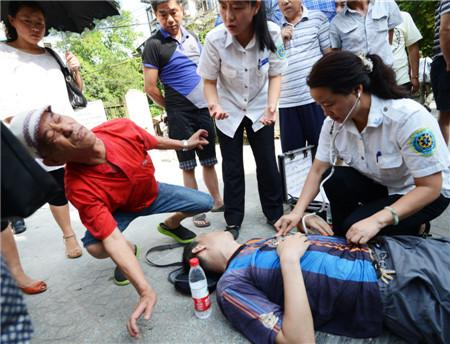fall: (181, 207, 450, 344)
